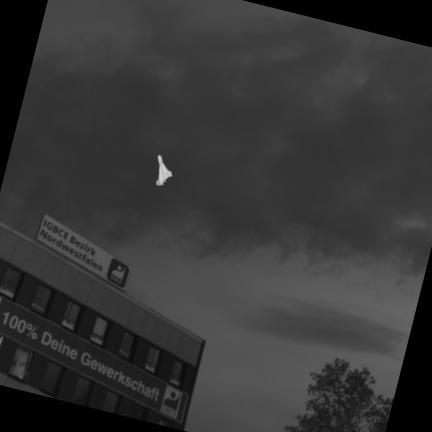Shahed: (155, 155, 171, 185)
